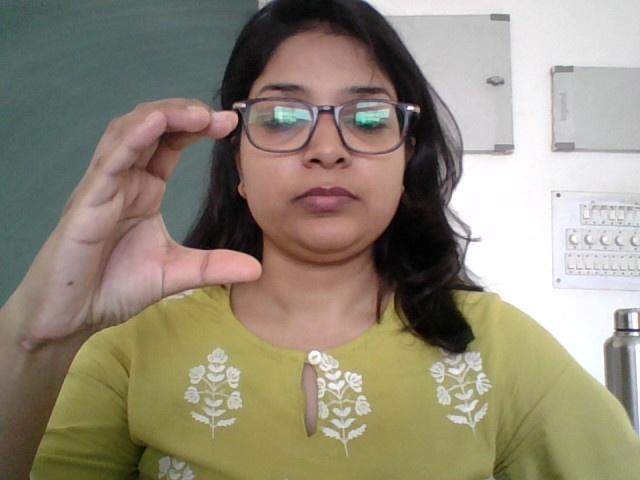C: (28, 91, 281, 375)
